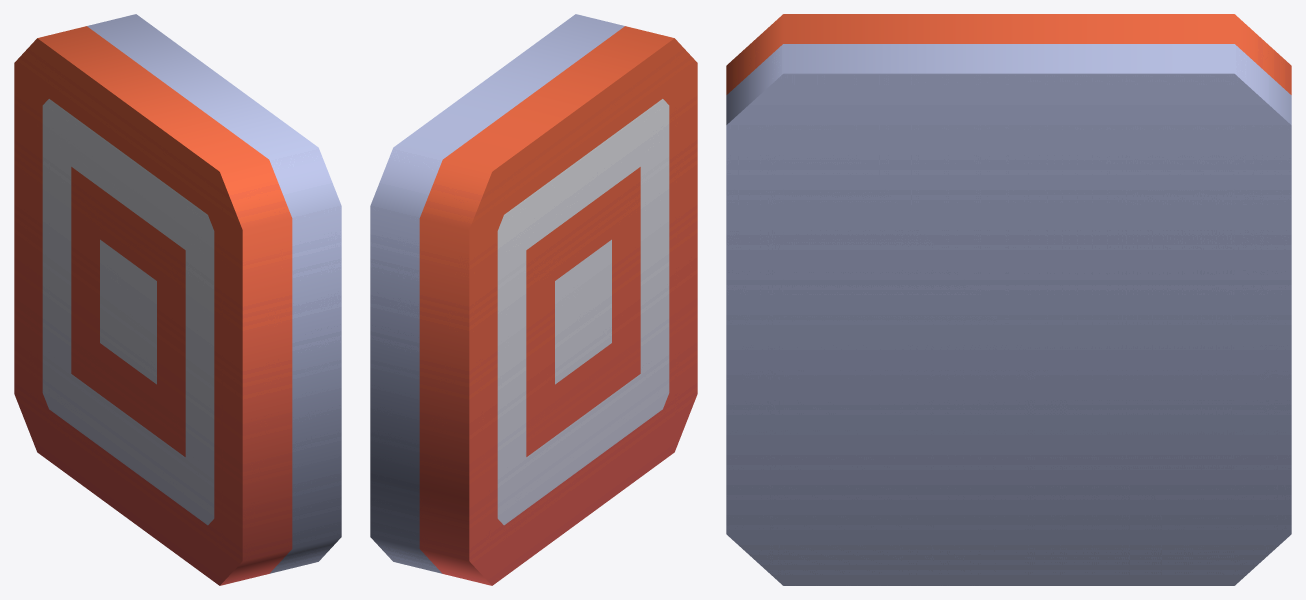
File: target-b-square.glb
The picture shows the model from 3 angles, left to right: view 1: azimuth 30°, elevation 25°; view 2: azimuth 150°, elevation 25°; view 3: azimuth 270°, elevation 25°; orthographic projection. The views are drawn at different scales.
Visible parts, largest first — view 1: target-b-square; view 2: target-b-square; view 3: target-b-square.
Part boxes in pixels (left/top/right/bottom): target-b-square: left=14, top=14, right=341, bottom=585; target-b-square: left=370, top=14, right=697, bottom=585; target-b-square: left=726, top=14, right=1291, bottom=585.
Size of the model in its own units: 0.124 by 0.496 by 0.496.
Materials: 1 (1 with a texture image).
